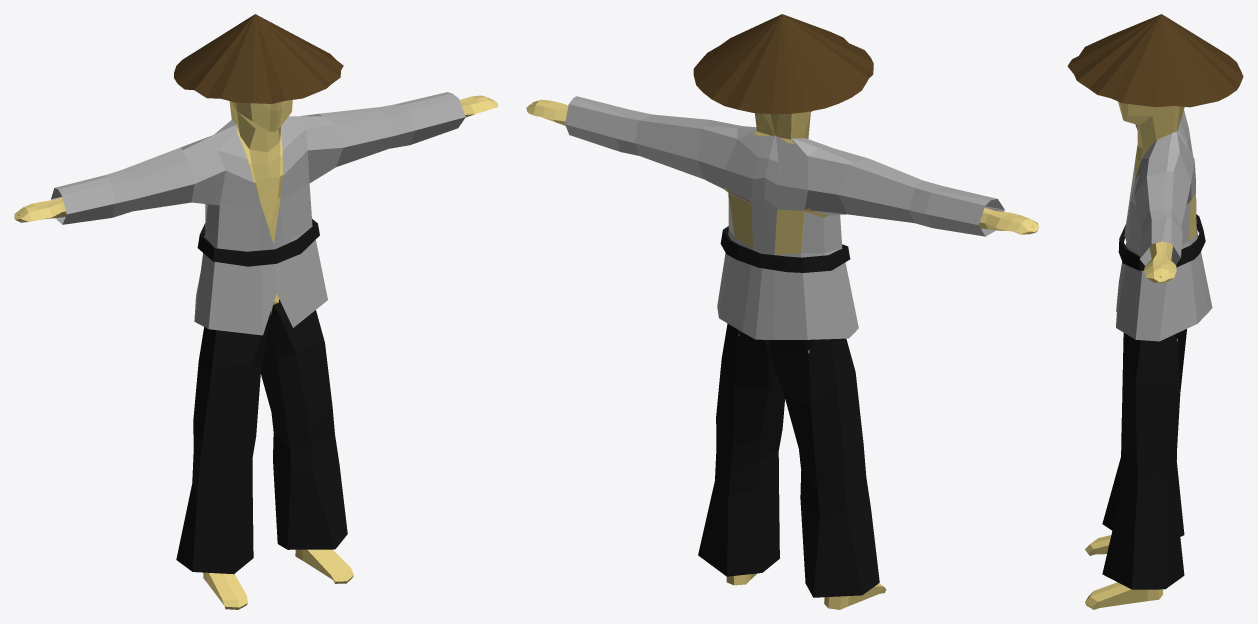
The model's file is CHARACTER oponent.fbx.
The picture shows the model from 3 angles, left to right: view 1: azimuth 30°, elevation 25°; view 2: azimuth 150°, elevation 25°; view 3: azimuth 270°, elevation 25°; orthographic projection. The views are drawn at different scales.
Parts seen in each view (by area): view 1: Cube.004; view 2: Cube.004; view 3: Cube.004.
Part boxes in pixels (x1,y1,x2,y2): Cube.004: (14,14,497,609); Cube.004: (526,14,1038,609); Cube.004: (1067,14,1243,609).
Size of the model in its own units: 2323 by 2567 by 725.
